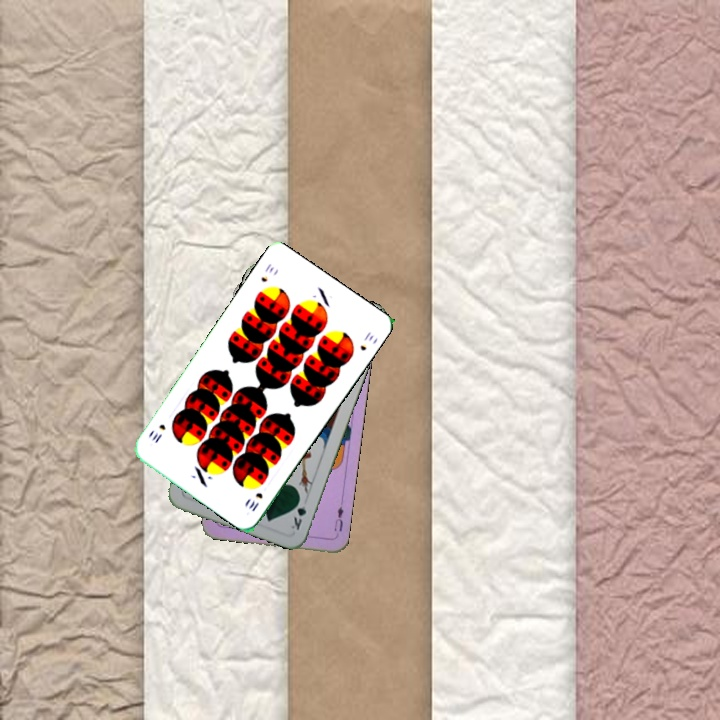EU: (330, 498, 347, 534)
GK: (287, 493, 309, 533)
S10: (244, 488, 265, 514), (257, 259, 277, 285)
